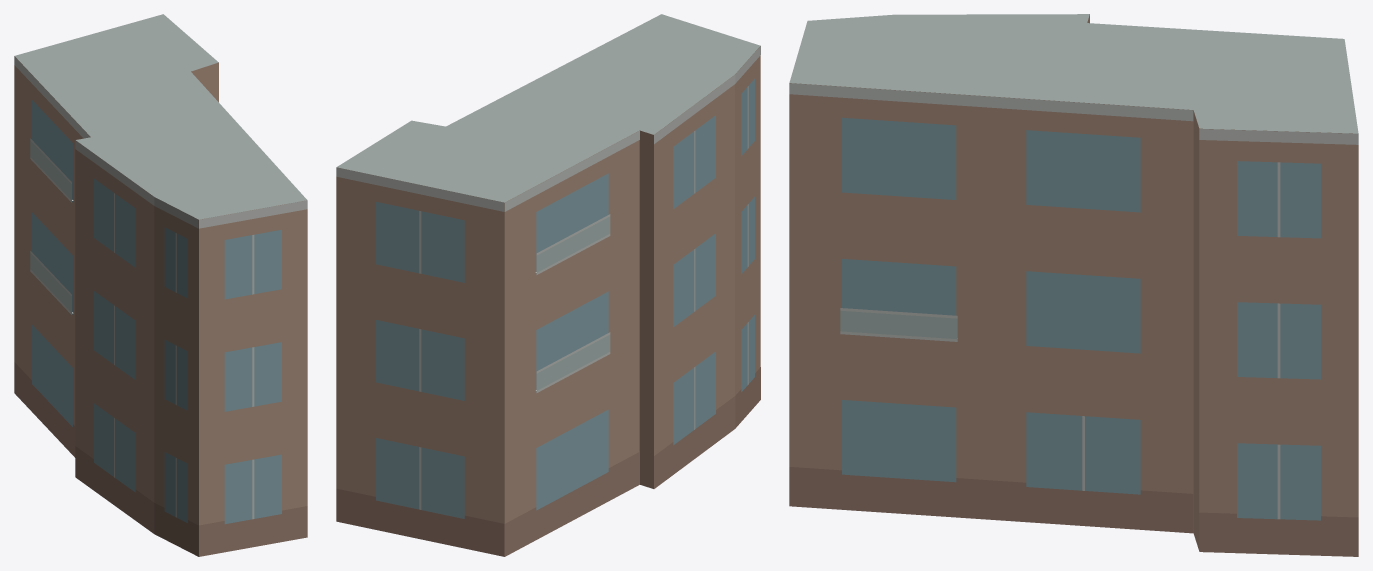
Rendered from survey-upis-32466114.glb.
3 renders of one model, left to right at view 1: azimuth 30°, elevation 25°; view 2: azimuth 150°, elevation 25°; view 3: azimuth 270°, elevation 25°, orthographic. The views are drawn at different scales.
Visible parts, largest first — view 1: survey-upis-32466114.tmp; view 2: survey-upis-32466114.tmp; view 3: survey-upis-32466114.tmp.
Boxes of the visible parts, box(x1,y1,x2,y2) form: survey-upis-32466114.tmp: box(14, 14, 307, 556); survey-upis-32466114.tmp: box(336, 14, 760, 556); survey-upis-32466114.tmp: box(789, 14, 1358, 556).
Size of the model in its own units: 5.55 by 9.15 by 11.17.
